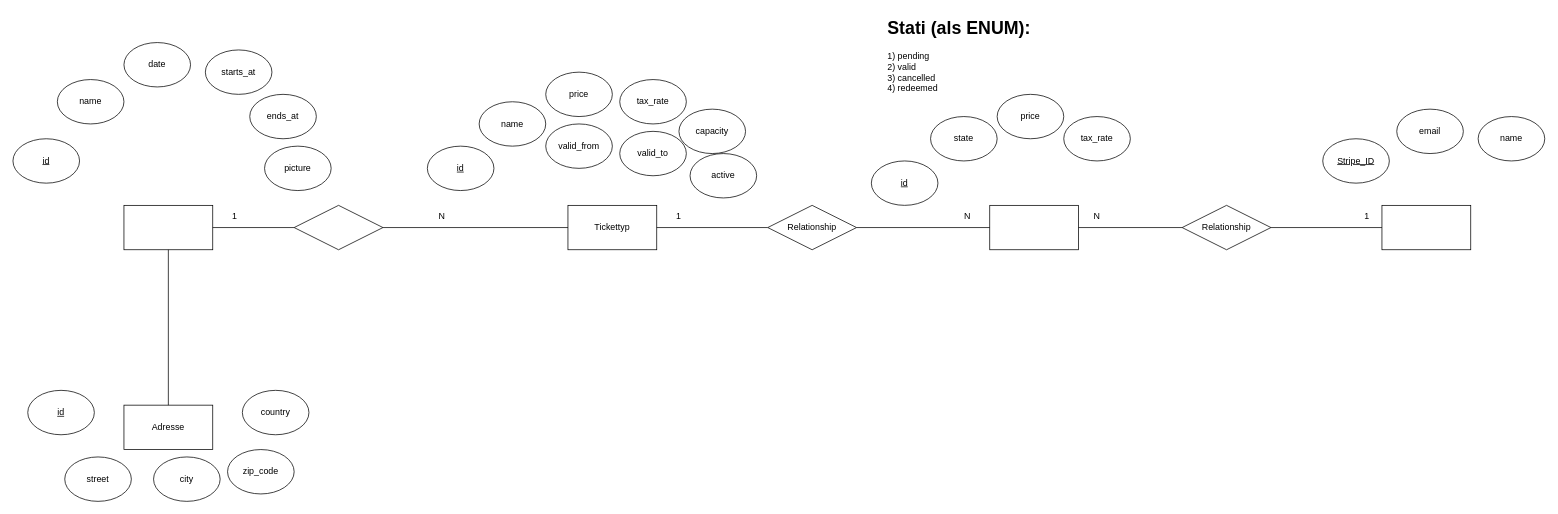
Some shapes in this 1558 by 514 pixel diagram are drawn without their labels. The centre of each missing label's shape, as x and y in pixels:
Event: (168,227)
hat: (338,227)
Kunde: (1426,227)
Ticket: (1034,227)
